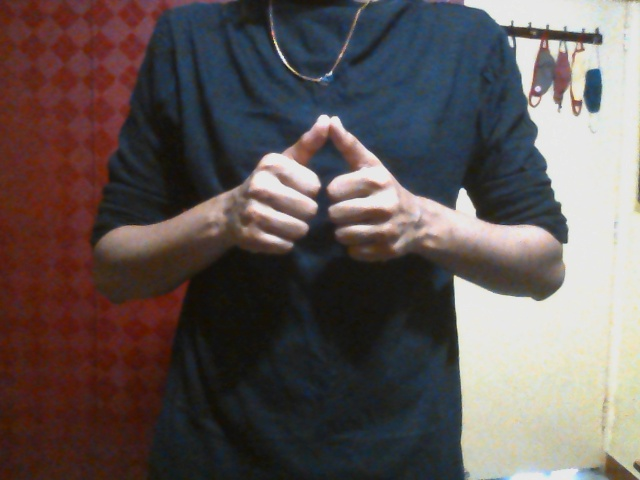A: (230, 111, 419, 265)
